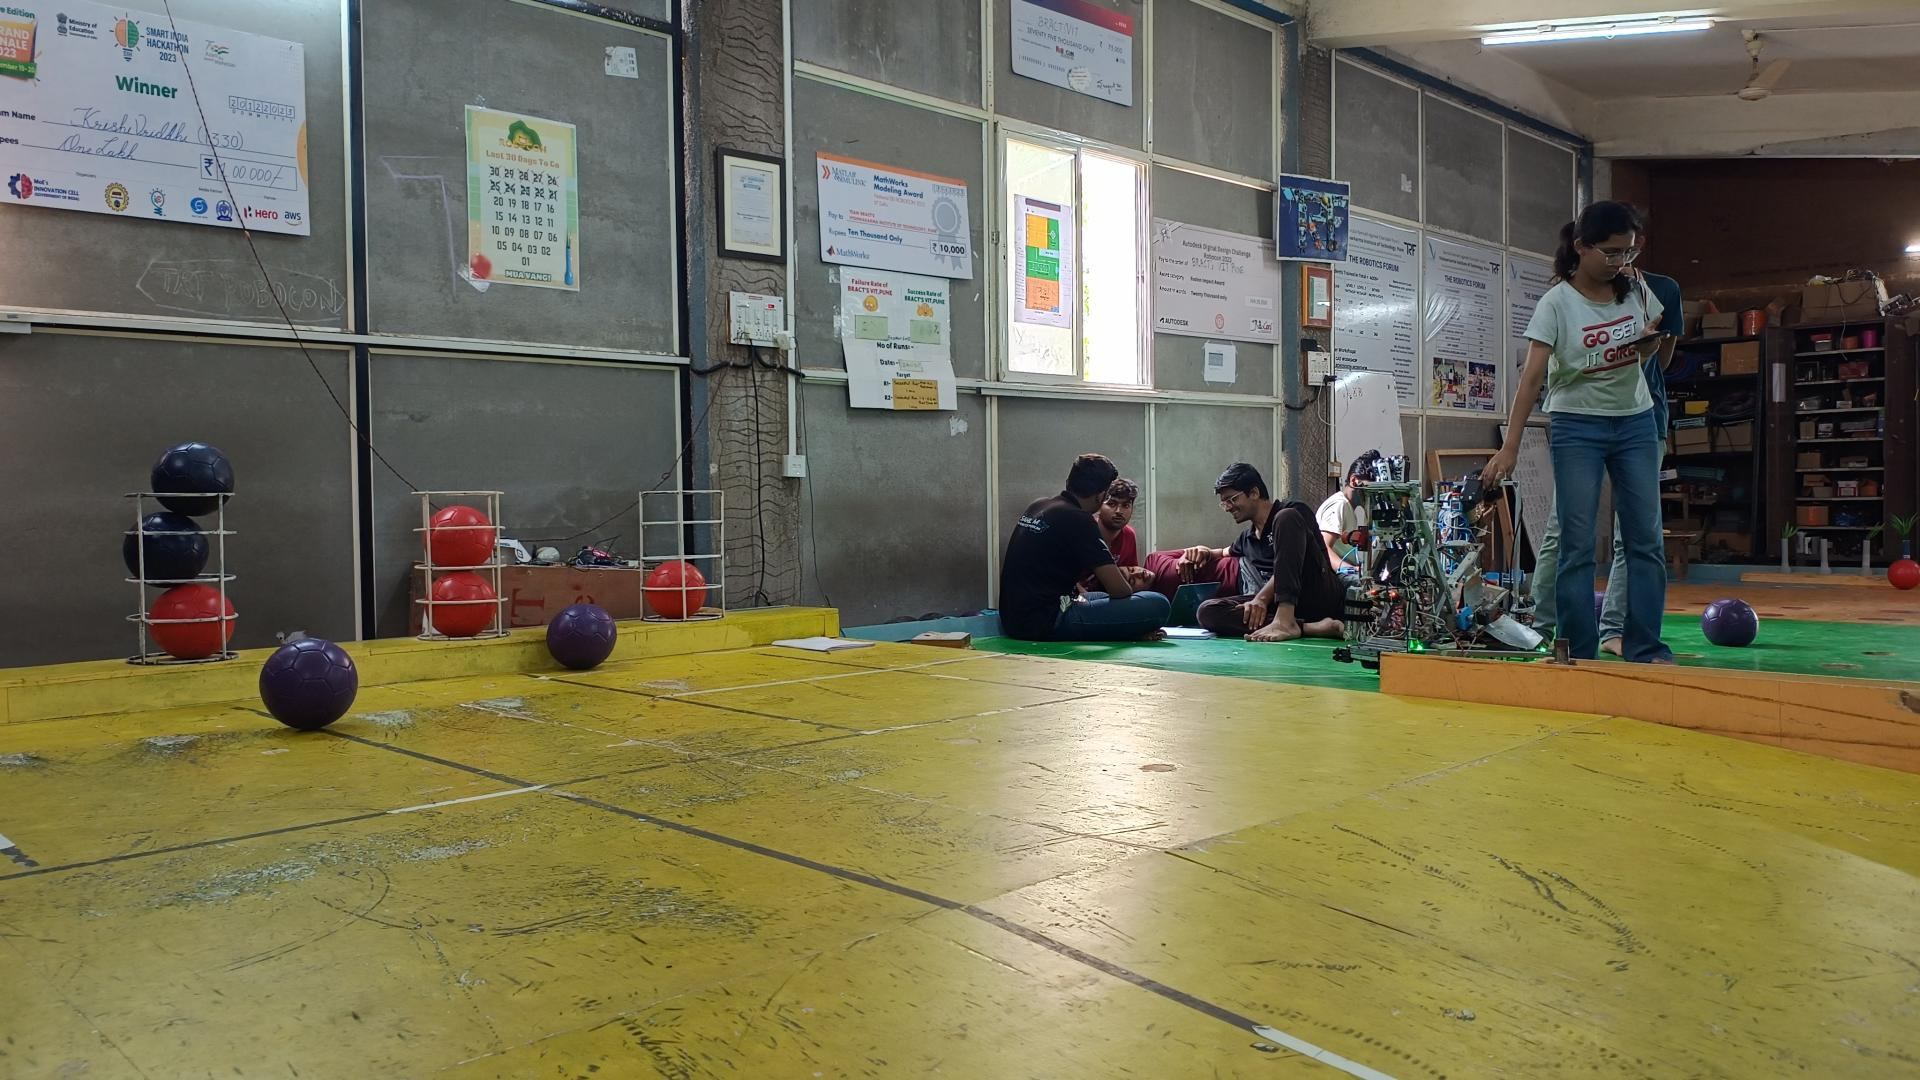dhoka: (124, 510, 210, 588), (150, 443, 236, 517)
laale: (150, 585, 236, 661), (423, 570, 498, 637), (423, 506, 495, 566), (645, 559, 708, 618)
